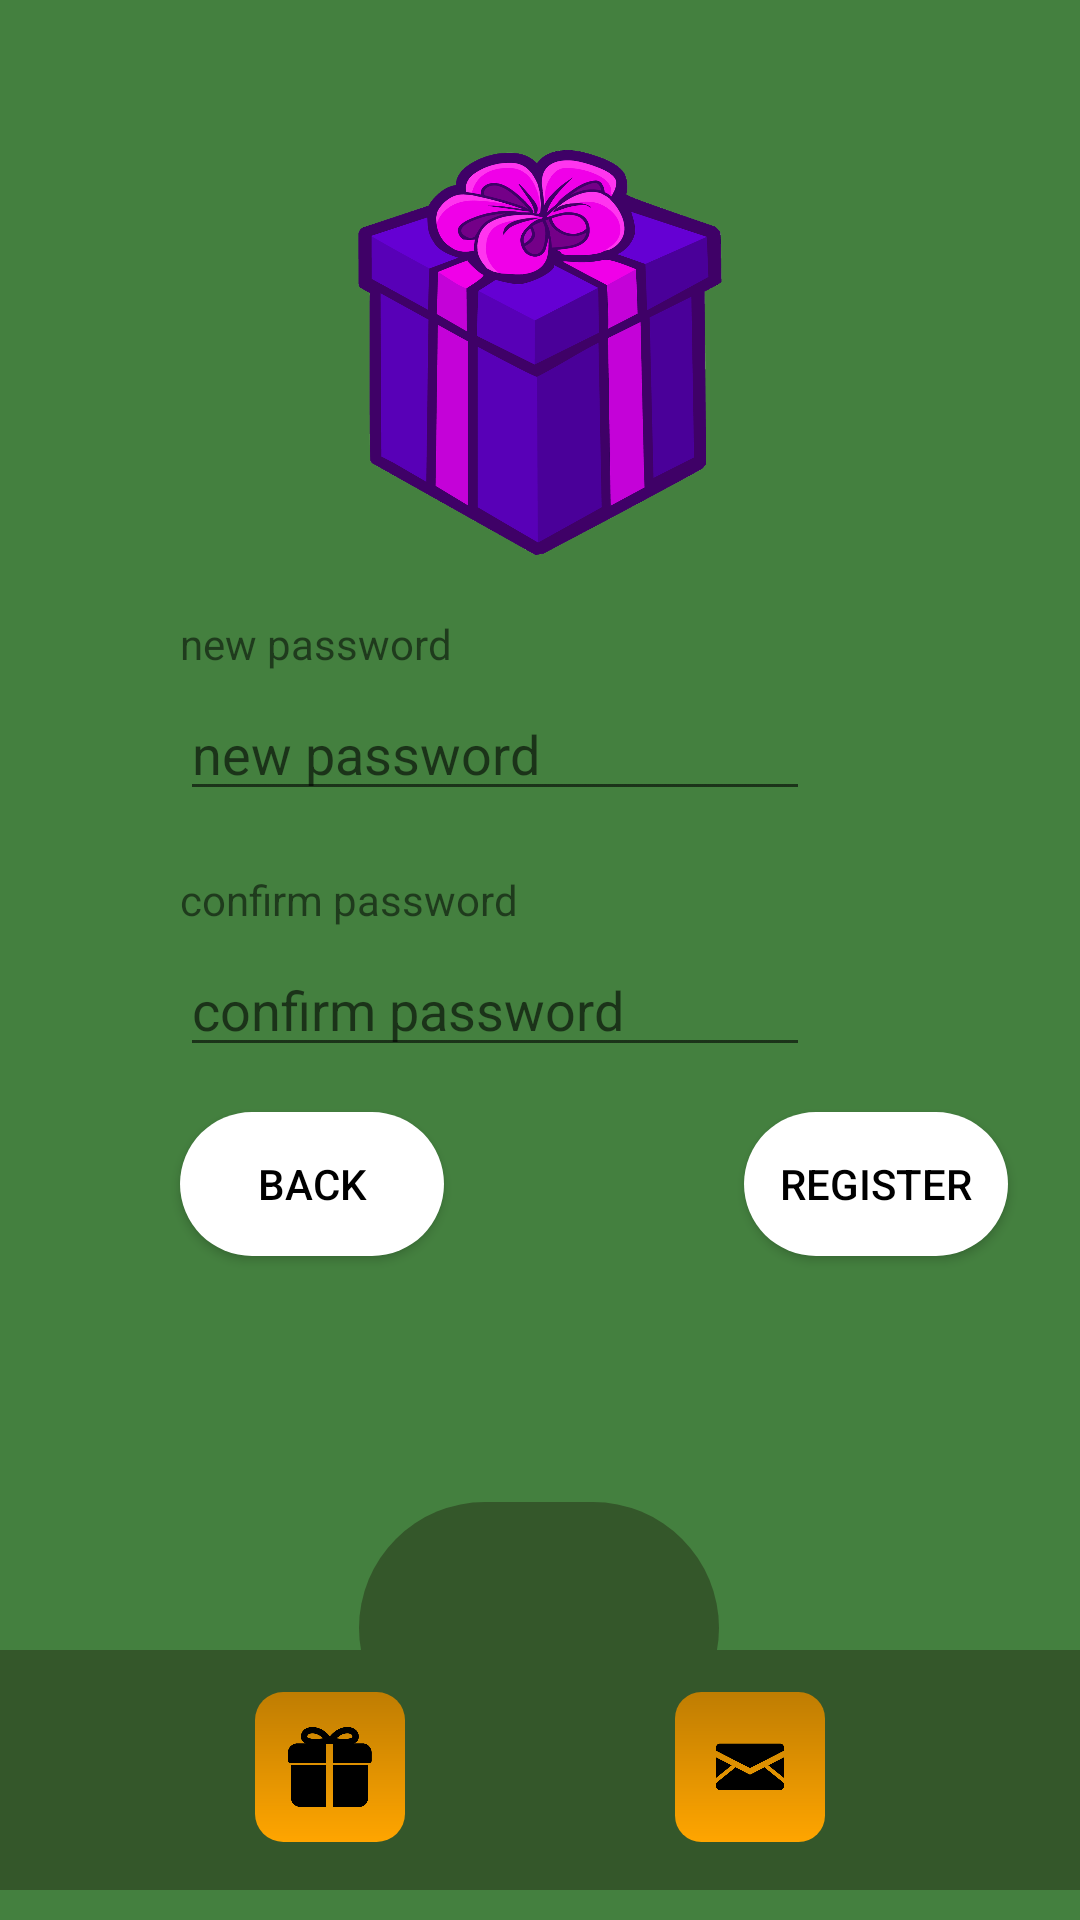

Screen size 1080×1920. Icon name, then its box in pixels as (x1, y1, x2, y2):
bottom menu gift: (255, 1692, 405, 1842)
bottom menu mail: (675, 1692, 825, 1842)
